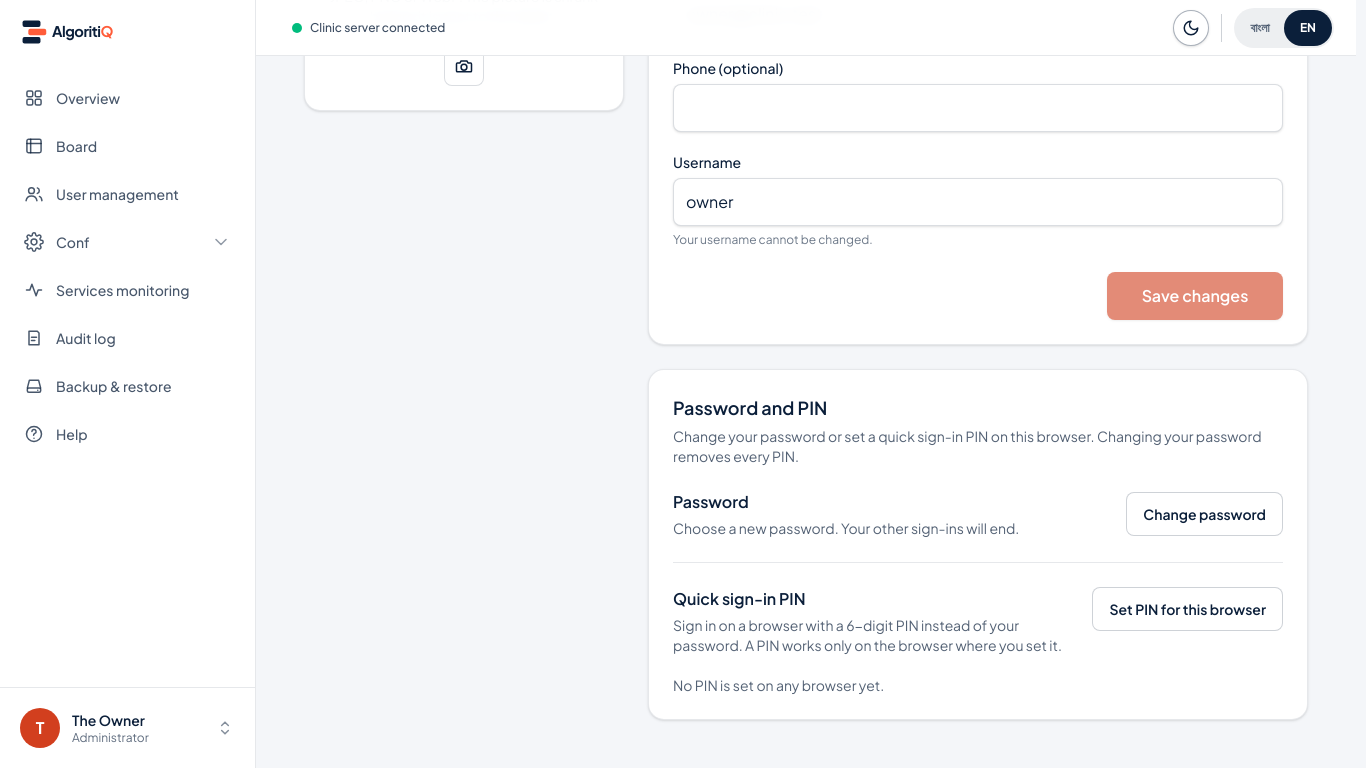
Test case: PIN card in settings › setting a PIN (popup) › should set it, keep the browser’s secret and refresh the list
(page scrolled)
Expected: the heading "Password and PIN" is shown, top-left (673, 396), bottom-right (827, 419)
Click the button "Set PIN for this browser": (1188, 609) top-left (1092, 587), bottom-right (1283, 631)
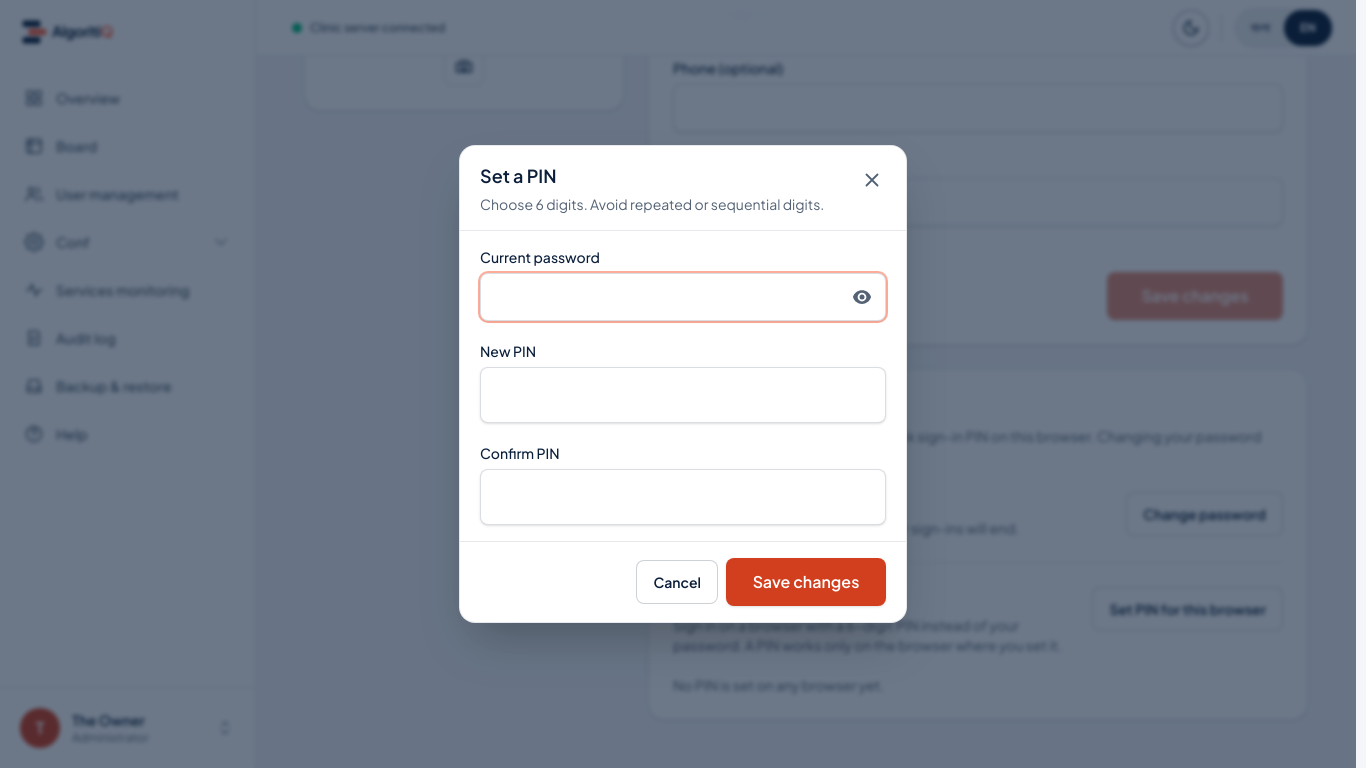
In the password field labelled "Current password": (683, 297) top-left (480, 273), bottom-right (886, 321), type "a-long-passphrase"
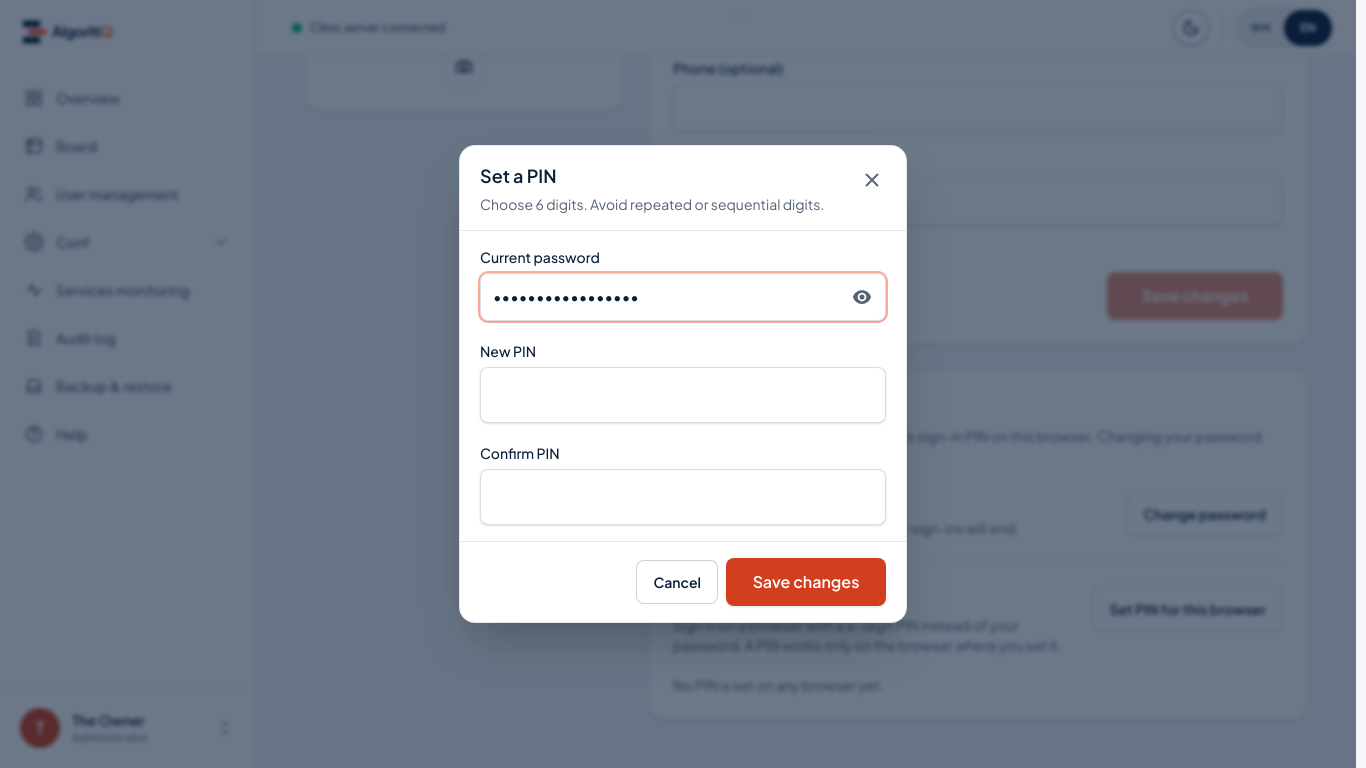
In the password field labelled "New PIN": (683, 395) top-left (480, 367), bottom-right (886, 423), type "482913"
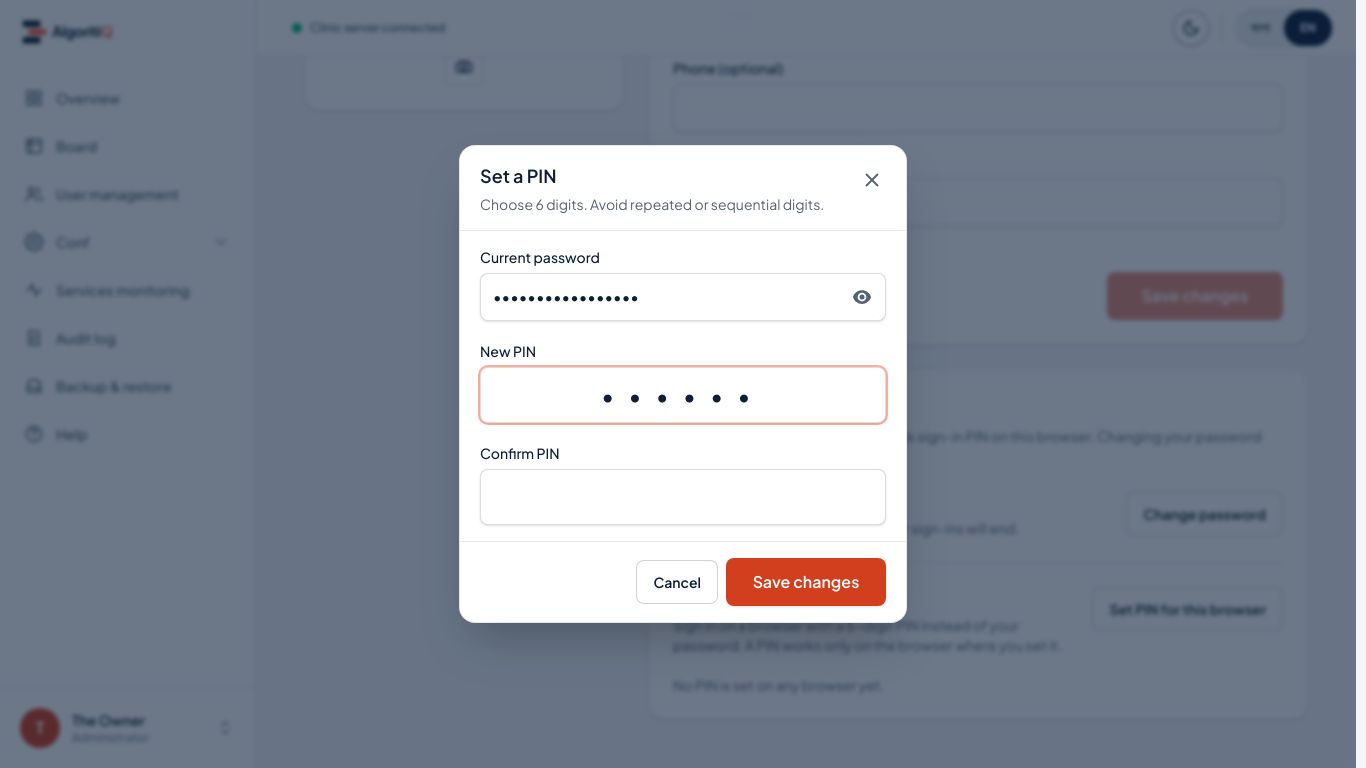
In the password field labelled "Confirm PIN": (683, 497) top-left (480, 469), bottom-right (886, 525), type "482913"
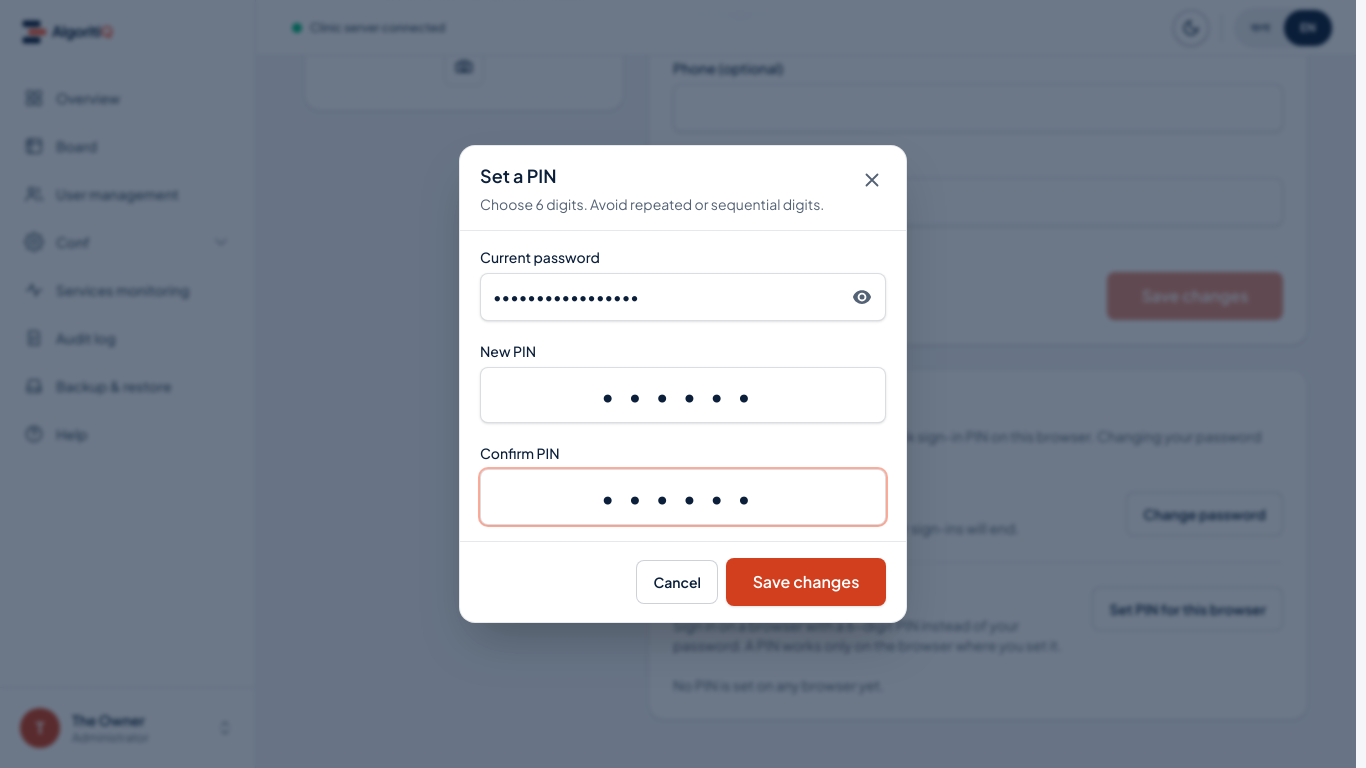
Click the button "Save changes": (806, 582) top-left (726, 558), bottom-right (886, 606)
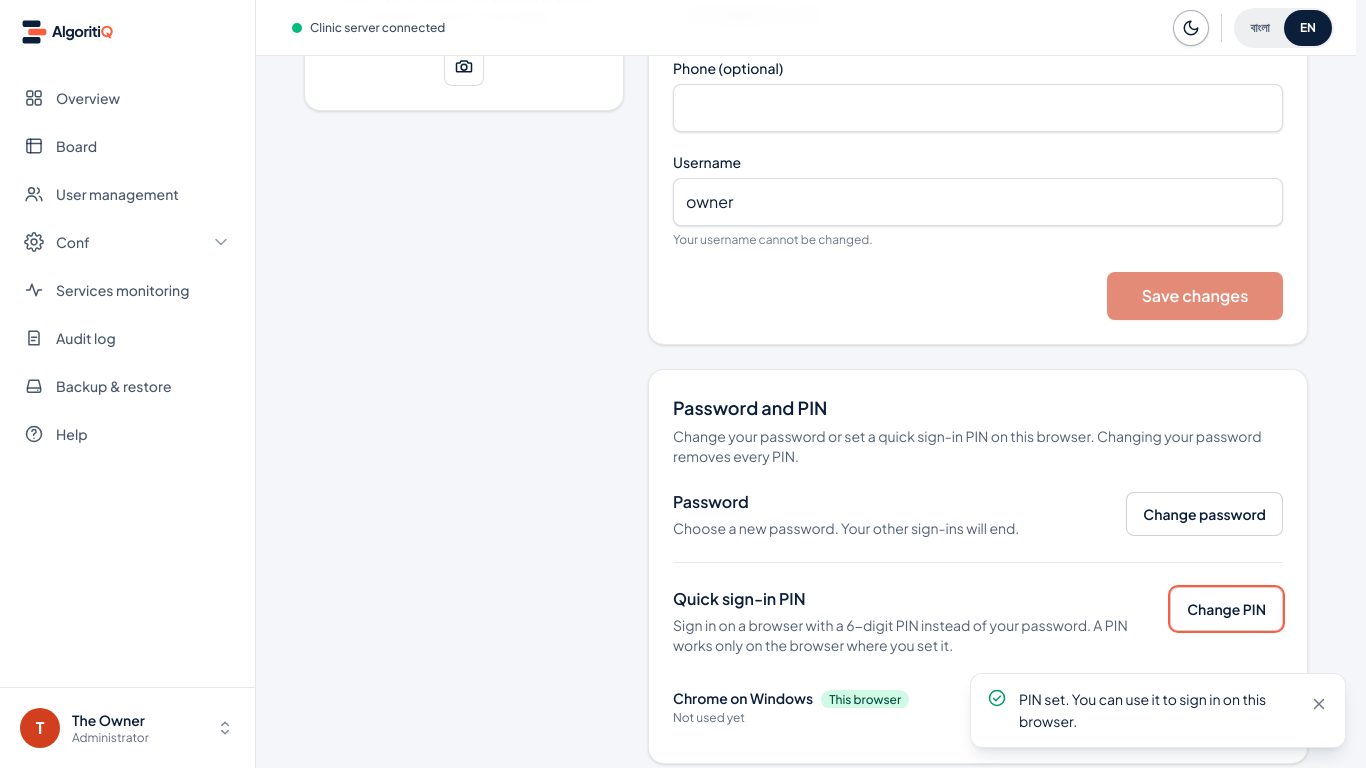
Now the text "PIN set. You can use it to sign in on this browser." is shown, box top-left (1019, 686), bottom-right (1289, 735)
Now the dialog is gone
